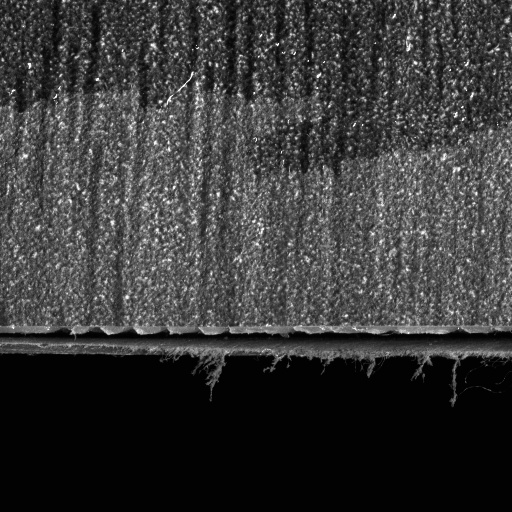kaijiao: (0, 322, 511, 365)
